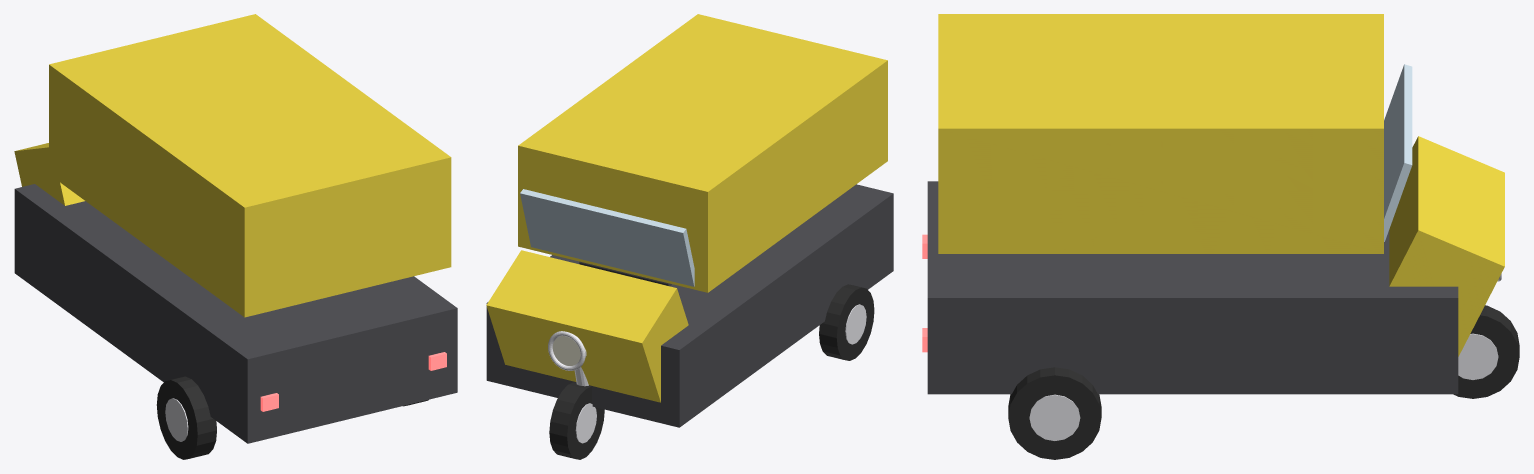
File: AutoRickshaw.fbx
The picture shows the model from 3 angles, left to right: view 1: azimuth 30°, elevation 25°; view 2: azimuth 150°, elevation 25°; view 3: azimuth 270°, elevation 25°; orthographic projection. The views are drawn at different scales.
Visible parts, largest first — view 1: CSVS_AutoRickshaw_Detailed; view 2: CSVS_AutoRickshaw_Detailed; view 3: CSVS_AutoRickshaw_Detailed.
Part boxes in pixels (left/top/right/bottom): CSVS_AutoRickshaw_Detailed: left=14, top=14, right=457, bottom=459; CSVS_AutoRickshaw_Detailed: left=486, top=14, right=893, bottom=459; CSVS_AutoRickshaw_Detailed: left=922, top=14, right=1519, bottom=459.
Size of the model in its own units: 1.49 by 1.68 by 2.82.
